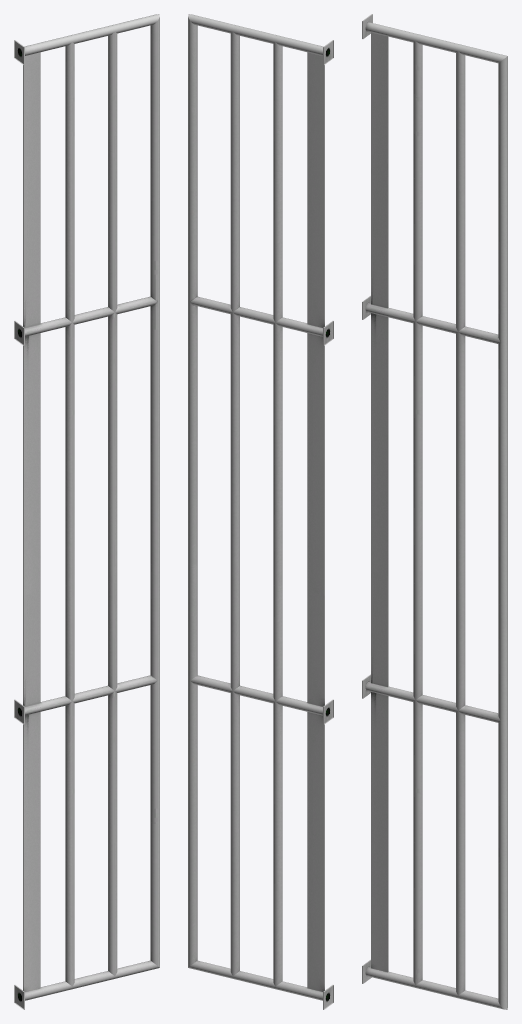
The model's file is props_trainyard_handrail216.glb.
3 renders of one model, left to right at view 1: azimuth 30°, elevation 25°; view 2: azimuth 150°, elevation 25°; view 3: azimuth 330°, elevation 25°, orthographic.
Visible parts, largest first — view 1: models/props_trainyard/handrail216; view 2: models/props_trainyard/handrail216; view 3: models/props_trainyard/handrail216.
Part boxes in pixels (<box>): models/props_trainyard/handrail216: <box>14,14,159,1009</box>; models/props_trainyard/handrail216: <box>188,14,333,1009</box>; models/props_trainyard/handrail216: <box>362,14,507,1009</box>.
Size of the model in its own units: 33 by 216 by 4.
Materials: 1 (1 with a texture image).
